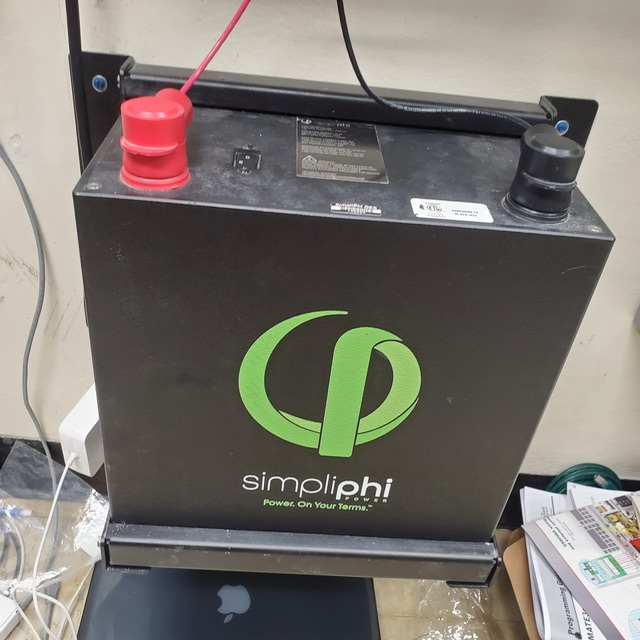battery: (70, 67, 619, 587)
